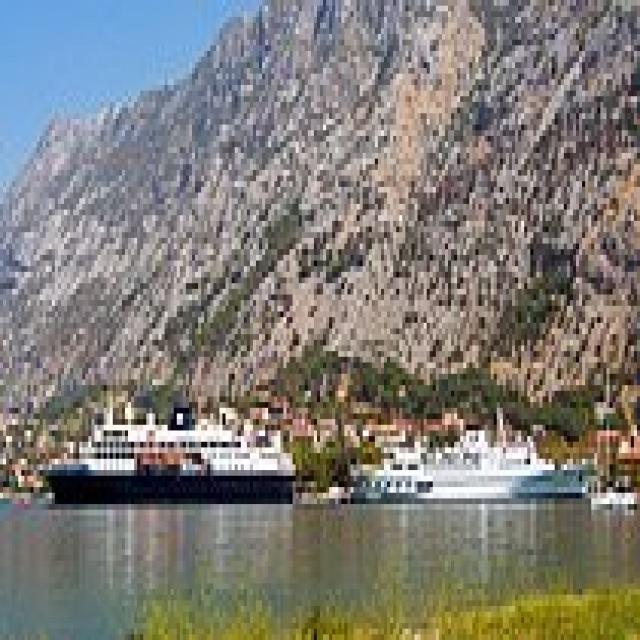Ship: (34, 381, 312, 523)
